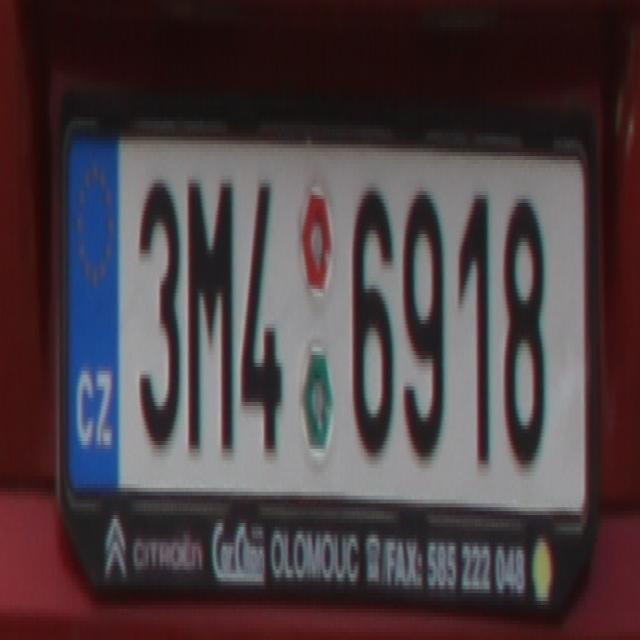1: (456, 191, 492, 484)
3: (138, 179, 180, 445)
4: (238, 172, 282, 438)
6: (349, 192, 396, 468)
8: (503, 195, 549, 468)
9: (402, 179, 444, 449)
M: (187, 175, 235, 452)
